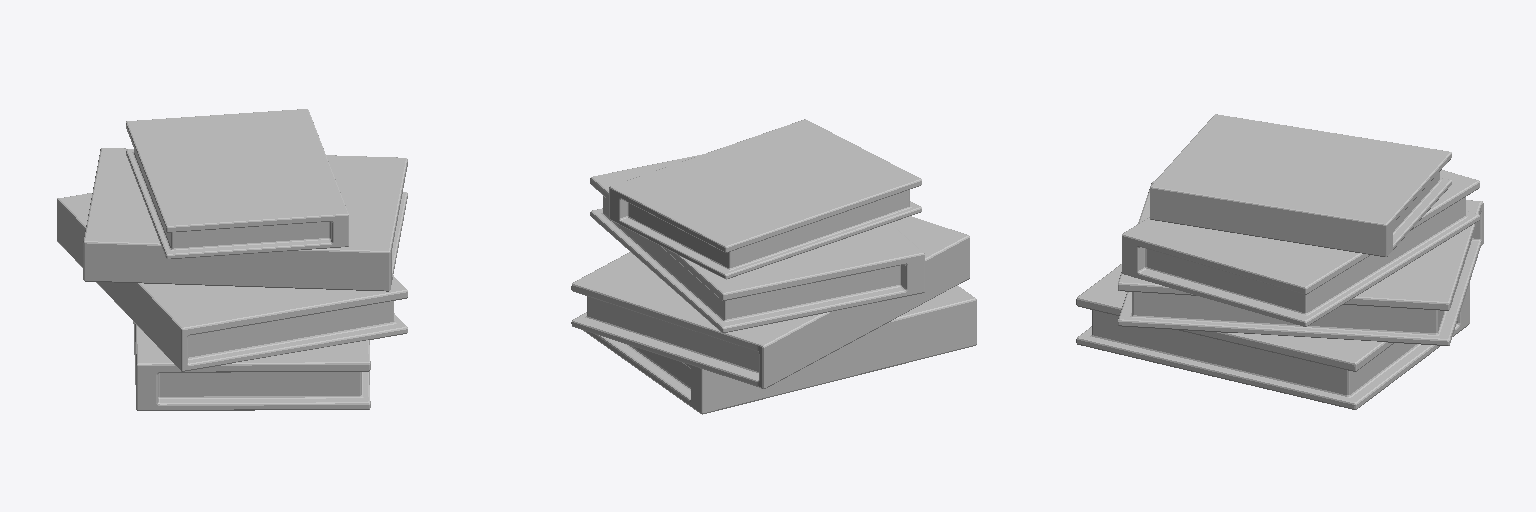
The model's file is stack buku.obj.
3 renders of one model, left to right at view 1: azimuth 30°, elevation 25°; view 2: azimuth 150°, elevation 25°; view 3: azimuth 270°, elevation 25°, orthographic.
Parts seen in each view (by area): view 1: pasted__group19 group20 polySurface88 pasted__pasted__pCube17, polySurface86 pasted__pCube17 group19, pCube17 polySurface84, polySurface82 pasted__pasted__pCube18 pasted__group19 group20, pasted__pasted__pCube18 pasted__group19 group20 polySurface83, polySurface85 pCube17, pasted__group19 group20 pasted__pasted__pCube17 polySurface89; view 2: pasted__group19 group20 polySurface88 pasted__pasted__pCube17, pCube17 polySurface84, polySurface86 pasted__pCube17 group19, polySurface82 pasted__pasted__pCube18 pasted__group19 group20, pasted__pCube17 group19 polySurface87, pasted__group19 group20 pasted__pasted__pCube17 polySurface89, polySurface85 pCube17, pasted__pasted__pCube18 pasted__group19 group20 polySurface83; view 3: pasted__group19 group20 polySurface88 pasted__pasted__pCube17, polySurface86 pasted__pCube17 group19, pCube17 polySurface84, polySurface82 pasted__pasted__pCube18 pasted__group19 group20, pasted__pasted__pCube18 pasted__group19 group20 polySurface83, pasted__pCube17 group19 polySurface87, polySurface85 pCube17.
Part boxes in pixels (x1,y1,x2,y2): pasted__group19 group20 polySurface88 pasted__pasted__pCube17: (126, 109, 348, 258); polySurface86 pasted__pCube17 group19: (83, 148, 407, 291); pCube17 polySurface84: (57, 193, 407, 371); polySurface82 pasted__pasted__pCube18 pasted__group19 group20: (133, 322, 370, 410); pasted__pasted__pCube18 pasted__group19 group20 polySurface83: (159, 372, 361, 397); polySurface85 pCube17: (188, 301, 394, 358); pasted__group19 group20 pasted__pasted__pCube17 polySurface89: (134, 150, 329, 249); pasted__group19 group20 polySurface88 pasted__pasted__pCube17: (609, 119, 921, 279); pCube17 polySurface84: (571, 216, 969, 388); polySurface86 pasted__pCube17 group19: (590, 154, 924, 332); polySurface82 pasted__pasted__pCube18 pasted__group19 group20: (583, 285, 976, 414); pasted__pCube17 group19 polySurface87: (603, 196, 900, 320); pasted__group19 group20 pasted__pasted__pCube17 polySurface89: (628, 190, 909, 269); polySurface85 pCube17: (587, 296, 758, 372); pasted__pasted__pCube18 pasted__group19 group20 polySurface83: (629, 345, 690, 388); pasted__group19 group20 polySurface88 pasted__pasted__pCube17: (1150, 114, 1451, 256); polySurface86 pasted__pCube17 group19: (1122, 170, 1479, 326); pCube17 polySurface84: (1118, 181, 1483, 345); polySurface82 pasted__pasted__pCube18 pasted__group19 group20: (1076, 264, 1469, 409); pasted__pasted__pCube18 pasted__group19 group20 polySurface83: (1092, 310, 1418, 396); pasted__pCube17 group19 polySurface87: (1145, 197, 1466, 314); polySurface85 pCube17: (1132, 292, 1444, 334).
Bounding box in the file's own units: 1.73 × 0.8321 × 1.85.